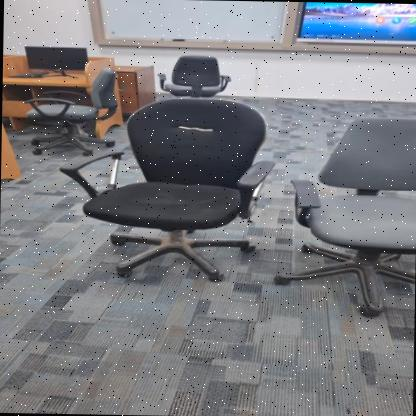chair: (54, 86, 280, 287), (271, 108, 416, 324), (17, 62, 125, 161), (152, 46, 238, 102)
